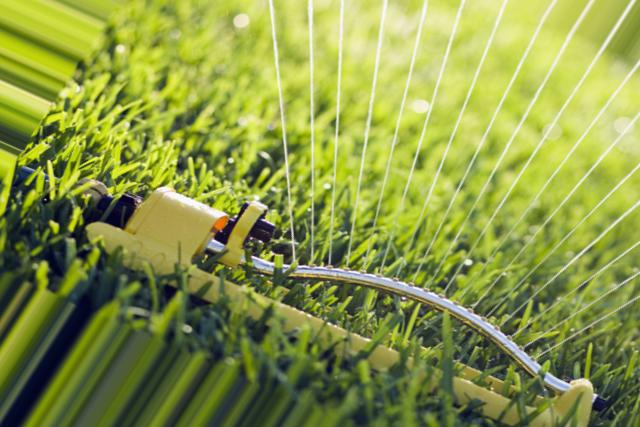patch: (153, 204, 192, 236)
